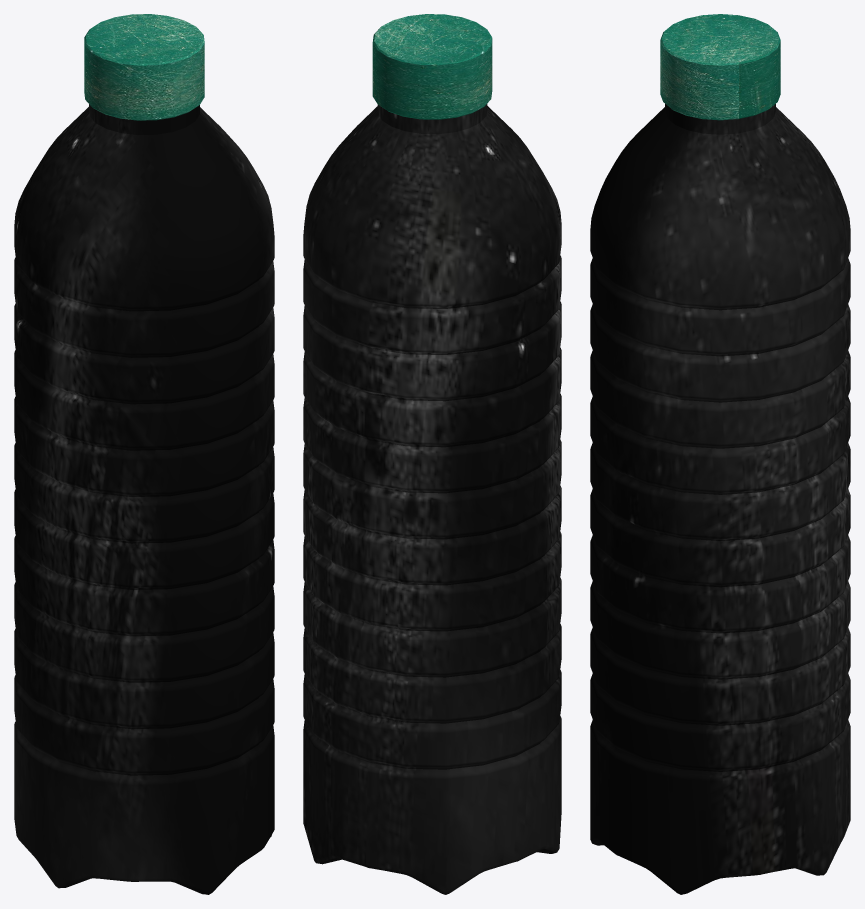
File: water_bottle.glb
3 renders of one model, left to right at view 1: azimuth 30°, elevation 25°; view 2: azimuth 150°, elevation 25°; view 3: azimuth 270°, elevation 25°, orthographic.
Parts seen in each view (by area): view 1: pCylinder8, pCylinder9; view 2: pCylinder8, pCylinder9; view 3: pCylinder8, pCylinder9.
Part boxes in pixels (left/top/right/bottom): pCylinder8: left=14, top=104, right=274, bottom=894; pCylinder9: left=84, top=14, right=204, bottom=120; pCylinder8: left=303, top=104, right=561, bottom=894; pCylinder9: left=372, top=14, right=492, bottom=119; pCylinder8: left=590, top=104, right=850, bottom=894; pCylinder9: left=660, top=14, right=780, bottom=120.
Bounding box in the file's own units: 0.6186 × 2.11 × 0.6186.
2 materials, 2 textured.
